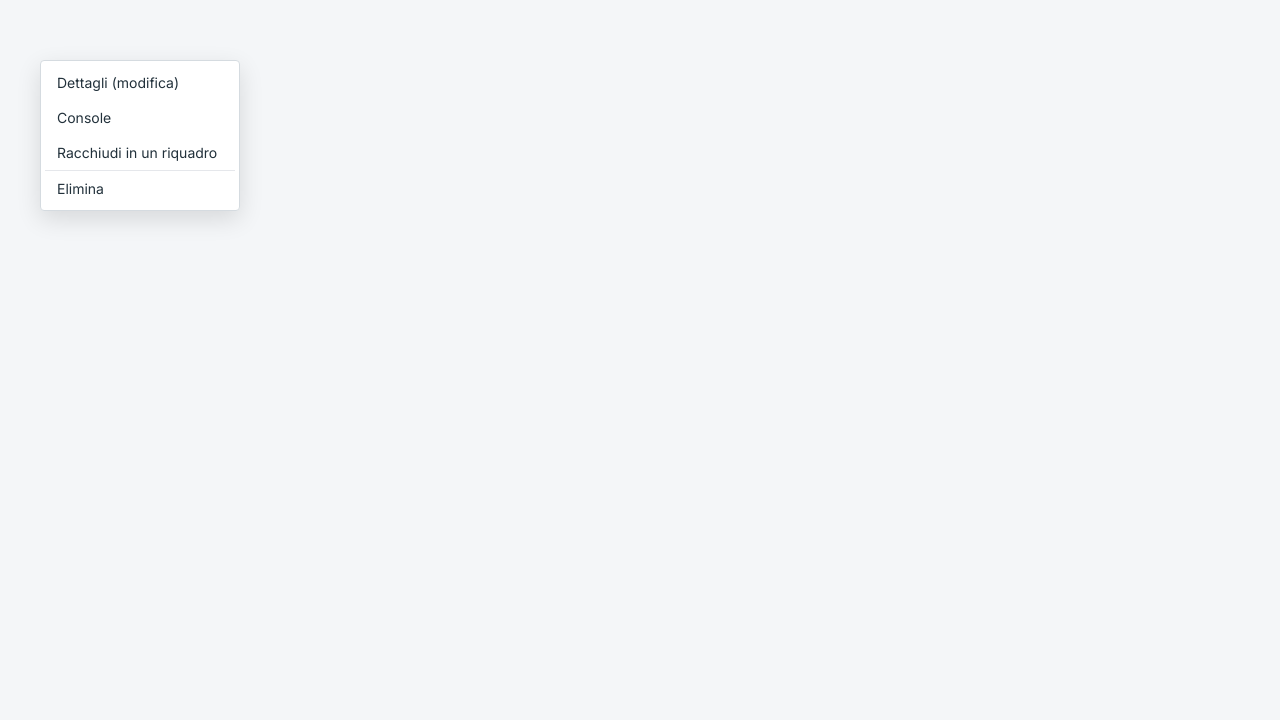
it: the guide — the window of a device and its note › the menu of a device has the entry it names, and it opens the window on «Generale»
Click the list item "Dettagli (modifica)".
click(118, 82)  # box [57,74,179,91]
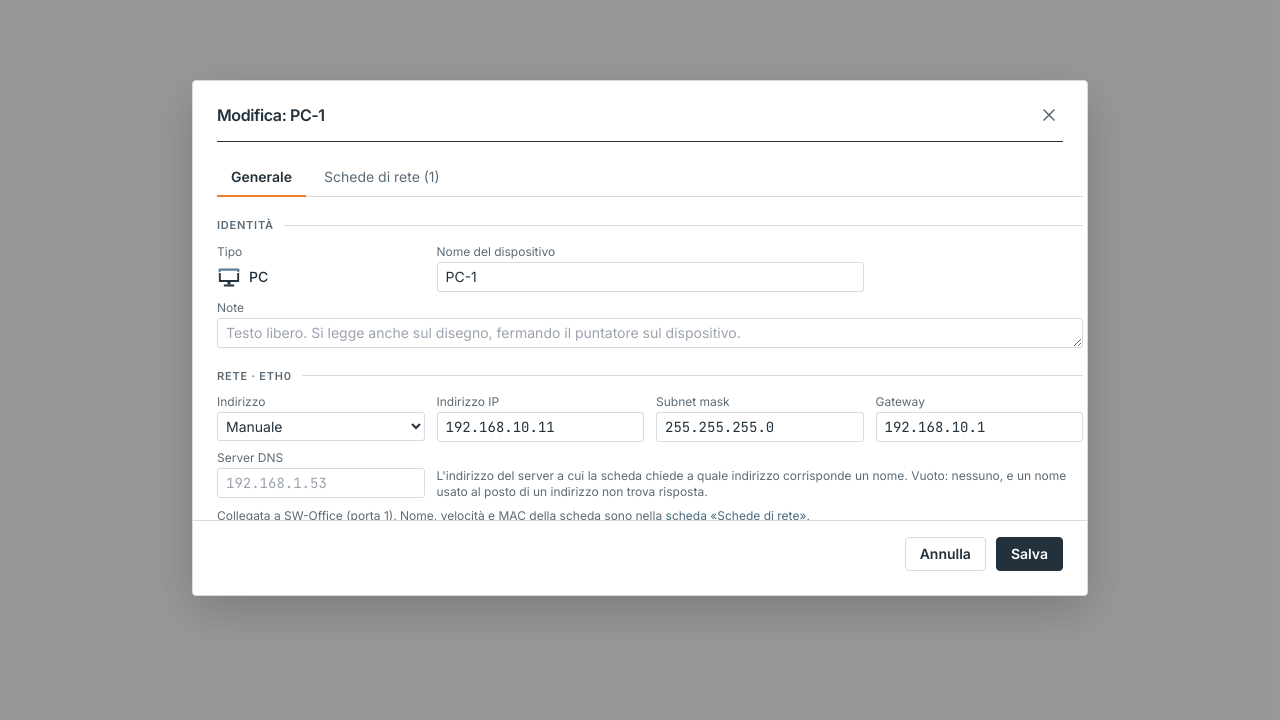
Check: the button with class "tab-header" reads "Generale", box [217,158,306,197]
Check: the button "Salva" is shown, box [996,537,1063,571]
